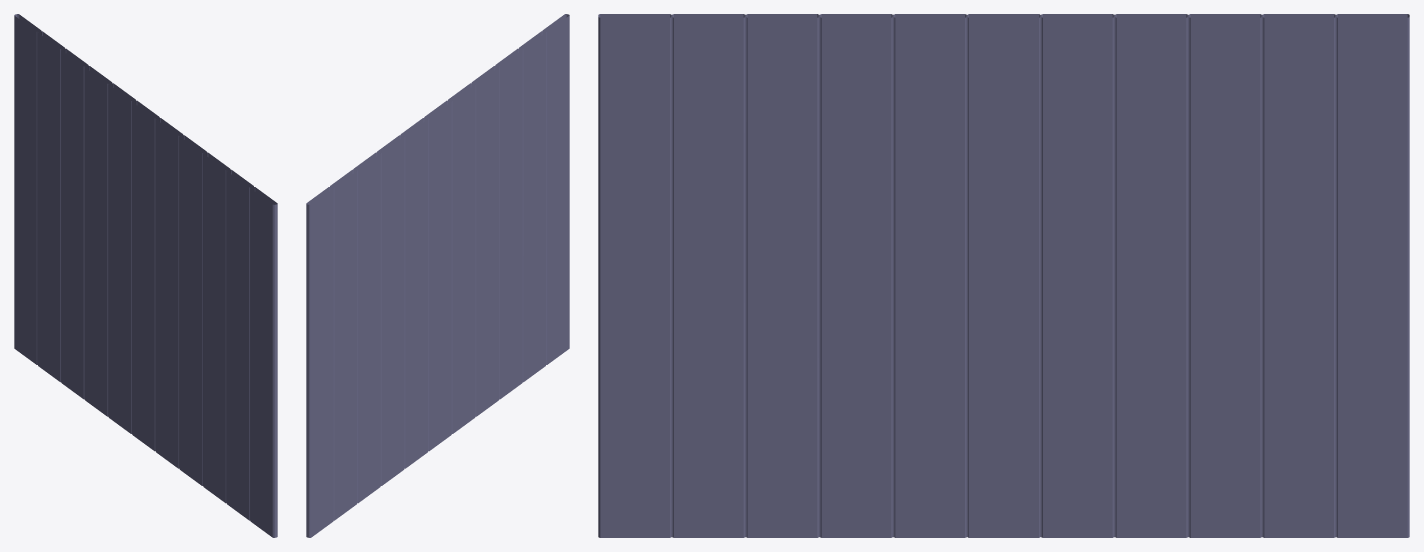
File: Interior_wall_2.fbx
The picture shows the model from 3 angles, left to right: view 1: azimuth 30°, elevation 25°; view 2: azimuth 150°, elevation 25°; view 3: azimuth 270°, elevation 25°; orthographic projection. The views are drawn at different scales.
Visible parts, largest first — view 1: Interior_wall_2; view 2: Interior_wall_2; view 3: Interior_wall_2.
Boxes of the visible parts, x1,y1,x2,y2 form: Interior_wall_2: (14,14,277,537); Interior_wall_2: (306,14,569,537); Interior_wall_2: (598,14,1409,537).
Bounding box in the file's own units: 4 × 255 × 360.
